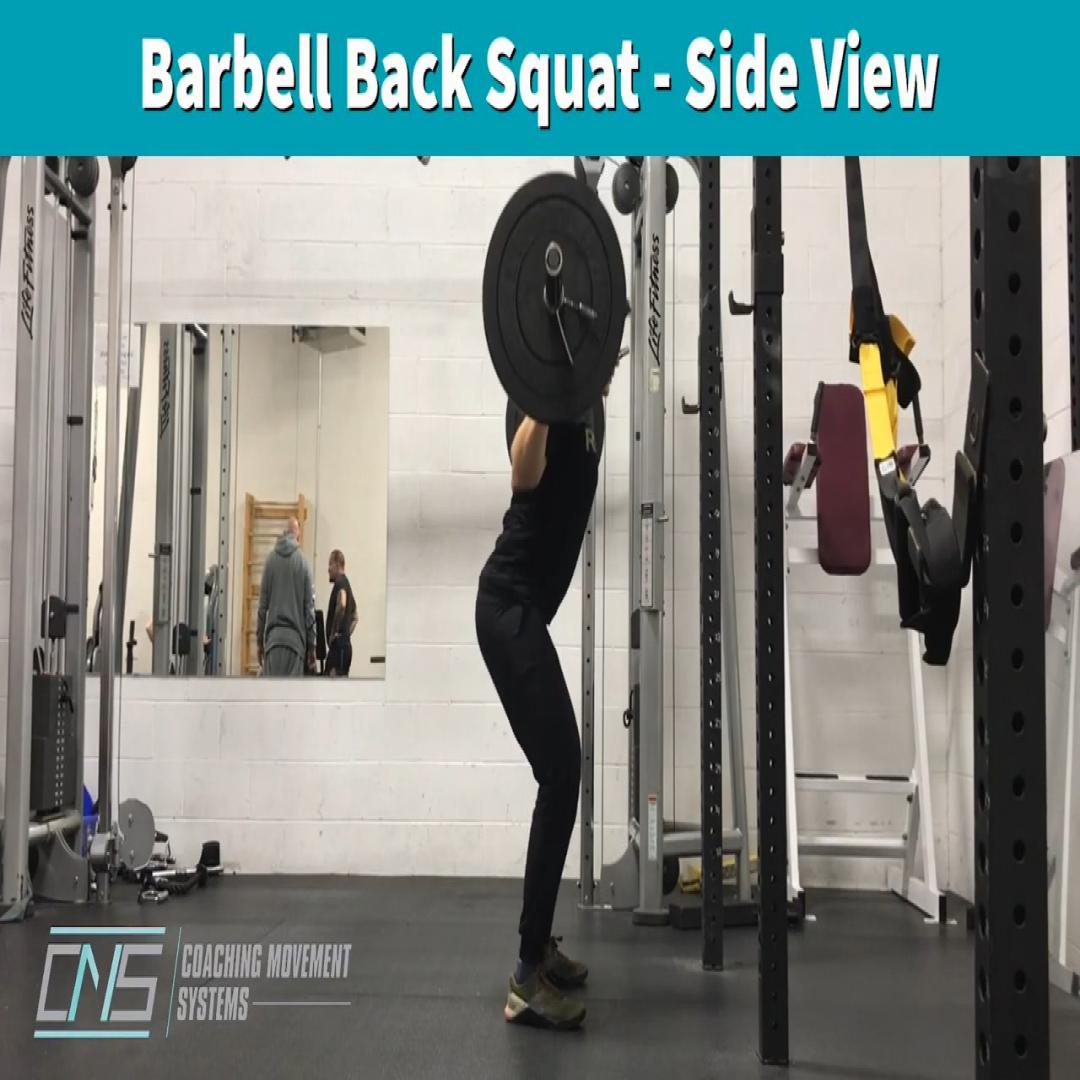Bar: (544, 238, 564, 276)
Barbell: (482, 171, 626, 426)
